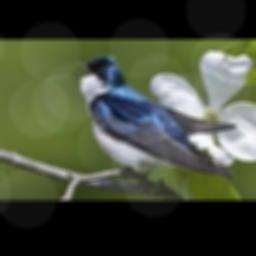Swallow: (72, 55, 236, 181)
